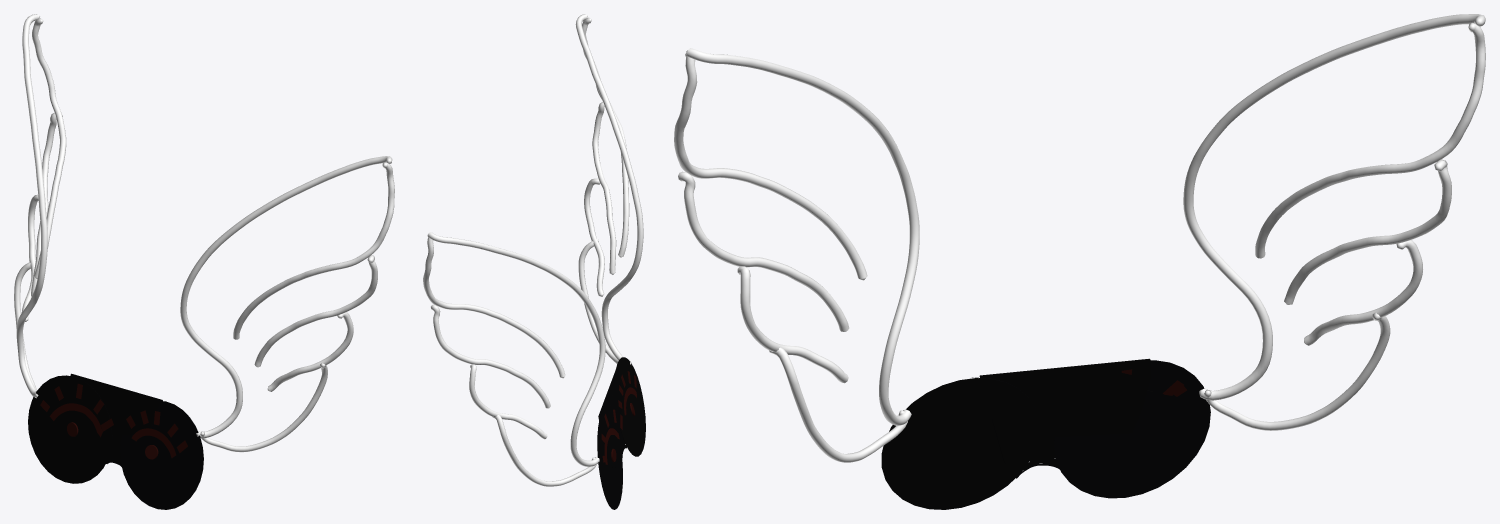
3 renders of one model, left to right at view 1: azimuth 30°, elevation 25°; view 2: azimuth 150°, elevation 25°; view 3: azimuth 270°, elevation 25°, orthographic. The views are drawn at different scales.
Visible parts, largest first — view 1: brush_UnlitHull_g1_b0, brush_Icing_g1_b0, brush_Flat_g1_b0; view 2: brush_Icing_g1_b0, brush_UnlitHull_g1_b0, brush_Flat_g1_b0; view 3: brush_UnlitHull_g1_b0, brush_Icing_g1_b0.
Boxes of the visible parts, bbox=[...] form: brush_UnlitHull_g1_b0: bbox=[28, 373, 203, 509]; brush_Icing_g1_b0: bbox=[14, 14, 394, 452]; brush_Flat_g1_b0: bbox=[40, 383, 187, 466]; brush_Icing_g1_b0: bbox=[423, 14, 643, 486]; brush_UnlitHull_g1_b0: bbox=[597, 357, 645, 509]; brush_Flat_g1_b0: bbox=[601, 371, 636, 464]; brush_UnlitHull_g1_b0: bbox=[881, 358, 1210, 509]; brush_Icing_g1_b0: bbox=[674, 14, 1485, 462].
Size of the model in its own units: 2.24 by 4.2 by 5.31.
